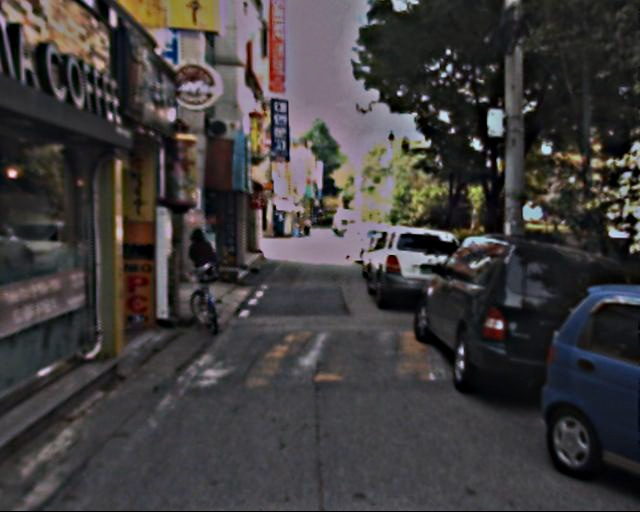person: (182, 224, 219, 313)
